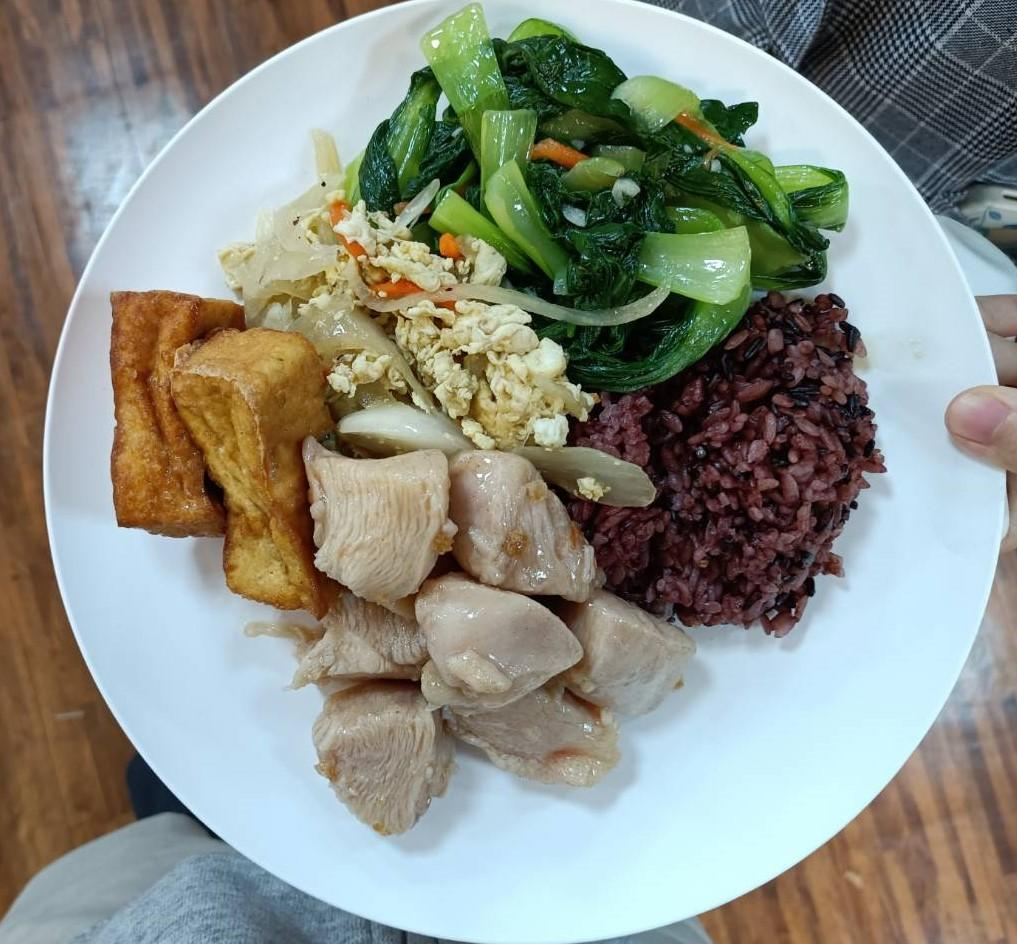big fried chicken leg: (28, 0, 1017, 944)
braised fish: (570, 286, 880, 634)
braised fish fillet: (355, 6, 852, 383), (228, 164, 572, 447), (99, 280, 346, 618)
braised pork: (292, 442, 701, 826)
